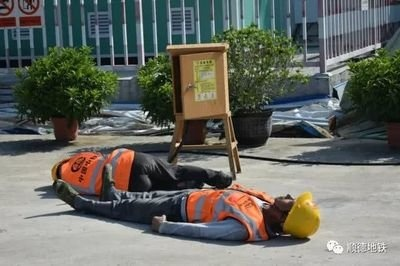falling: (49, 139, 230, 205)
